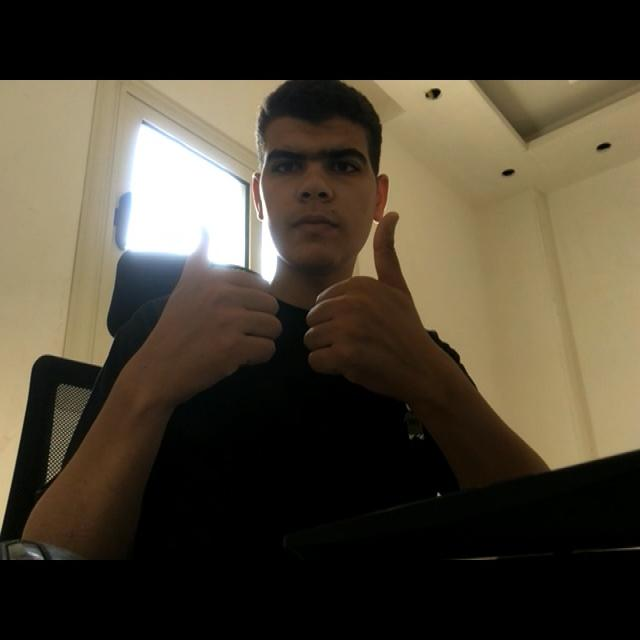Hello-ptrO: (130, 193, 480, 462)
